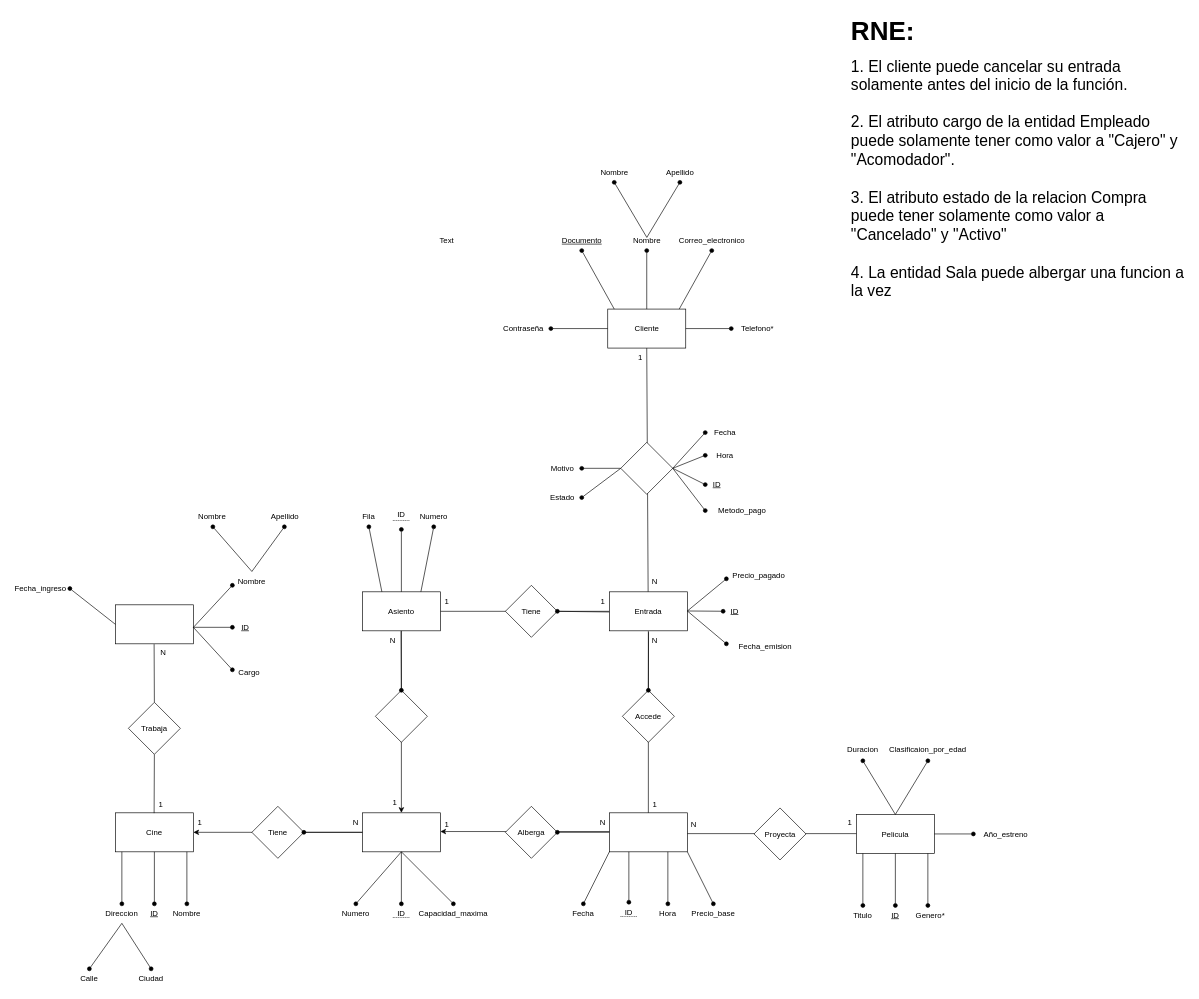
The diagram is 1199 pixels wide and 999 high, and some of its shapes have lost their labels. Each missing label, with the centre of its shape:
Compra: the point at 646,468
Contiene: the point at 401,716
Empleado: the point at 154,624
Funcion: the point at 648,832
Sala: the point at 401,832
